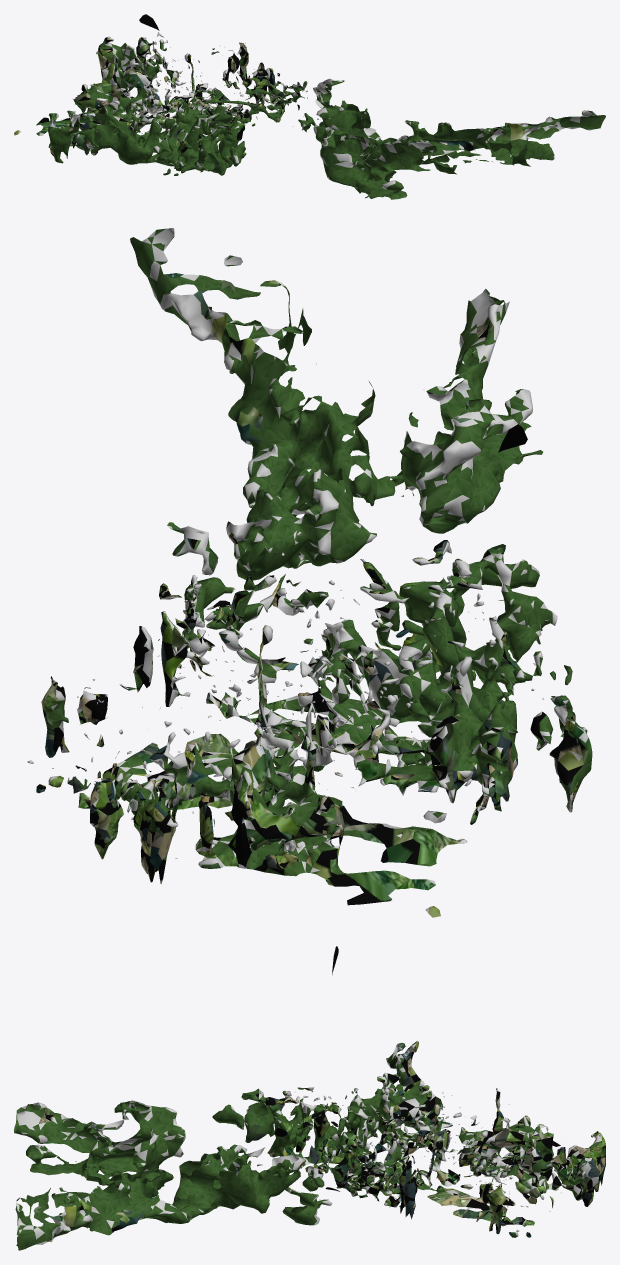
The model's file is fathersday_lowpoly.obj.
3 renders of one model, top to bottom at view 1: azimuth 30°, elevation 25°; view 2: azimuth 150°, elevation 25°; view 3: azimuth 270°, elevation 25°, orthographic. The views are drawn at different scales.
Bounding box in the file's own units: 5.68 × 2.38 × 6.16.
